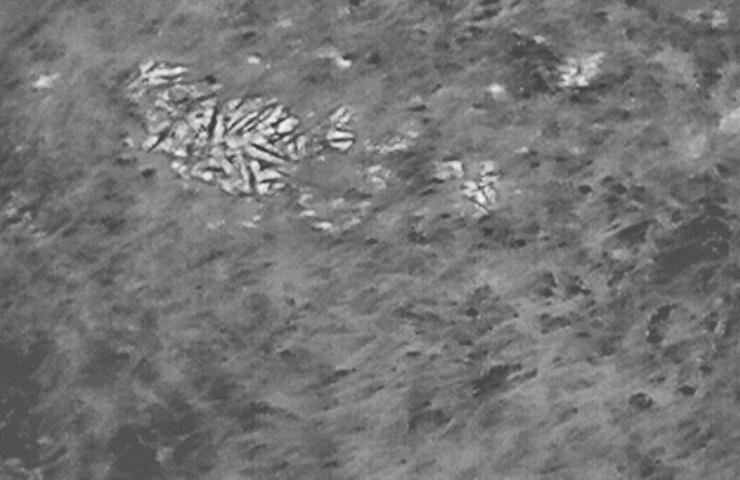landmines: (153, 83, 314, 203)
